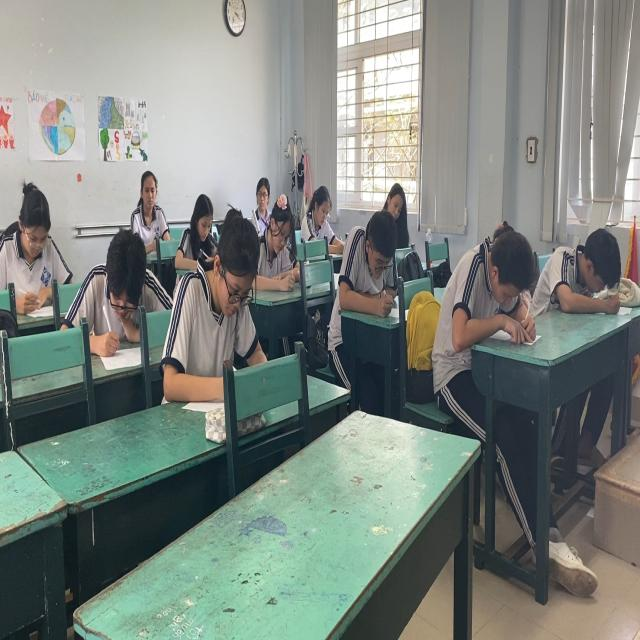not_cheating: (168, 197, 256, 379), (72, 224, 156, 356), (0, 162, 66, 314), (461, 224, 531, 342), (555, 234, 626, 318), (354, 224, 407, 300), (255, 173, 294, 275), (130, 165, 170, 255), (302, 190, 334, 234), (384, 176, 411, 224)
